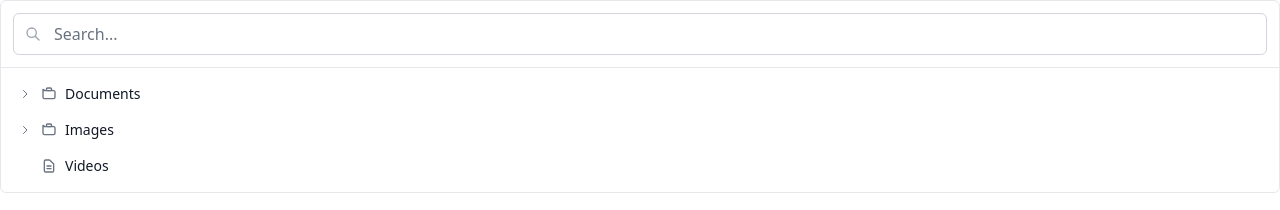
TreeView › filters nodes based on search
Type "Work" into the field with placeholder "Search..." at (640, 34), box [13,13,1267,55]
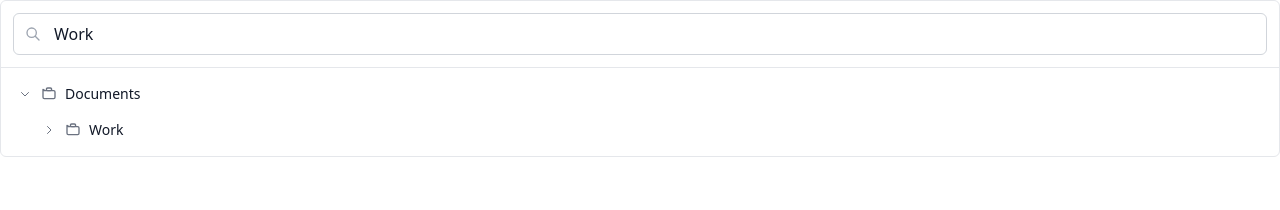
Now the text "Work" is shown, box [89,120,124,139]
Now the text "Videos" is gone
